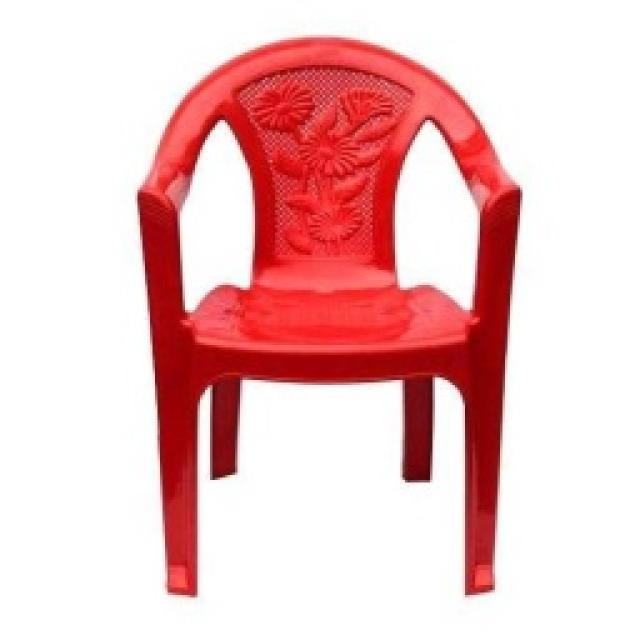sandalye: (135, 32, 523, 598)
